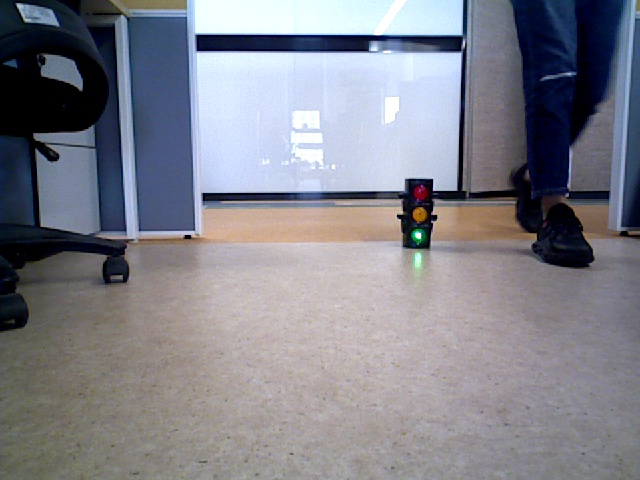green: (401, 178, 432, 246)
